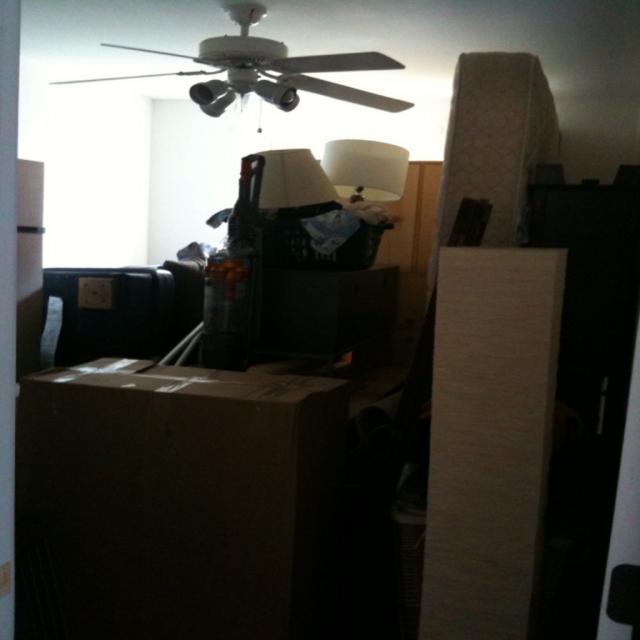fan_off: (47, 0, 416, 115)
